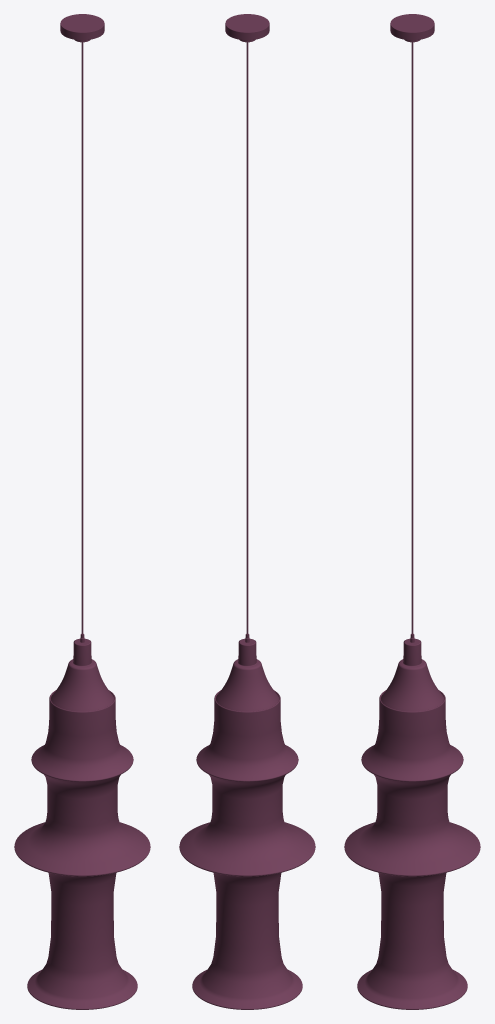
The model's file is Lamp2.fbx.
The picture shows the model from 3 angles, left to right: view 1: azimuth 90°, elevation 25°; view 2: azimuth 150°, elevation 25°; view 3: azimuth 270°, elevation 25°; orthographic projection.
Parts seen in each view (by area): view 1: OBJ_MTL1:elledecor_beinspiration_24; view 2: OBJ_MTL1:elledecor_beinspiration_24; view 3: OBJ_MTL1:elledecor_beinspiration_24.
Part boxes in pixels (x1=…): OBJ_MTL1:elledecor_beinspiration_24: x1=14, y1=14, x2=150, y2=1009; OBJ_MTL1:elledecor_beinspiration_24: x1=179, y1=14, x2=315, y2=1009; OBJ_MTL1:elledecor_beinspiration_24: x1=344, y1=14, x2=480, y2=1009.
Bounding box in the file's own units: 18.43 × 144 × 18.43.
